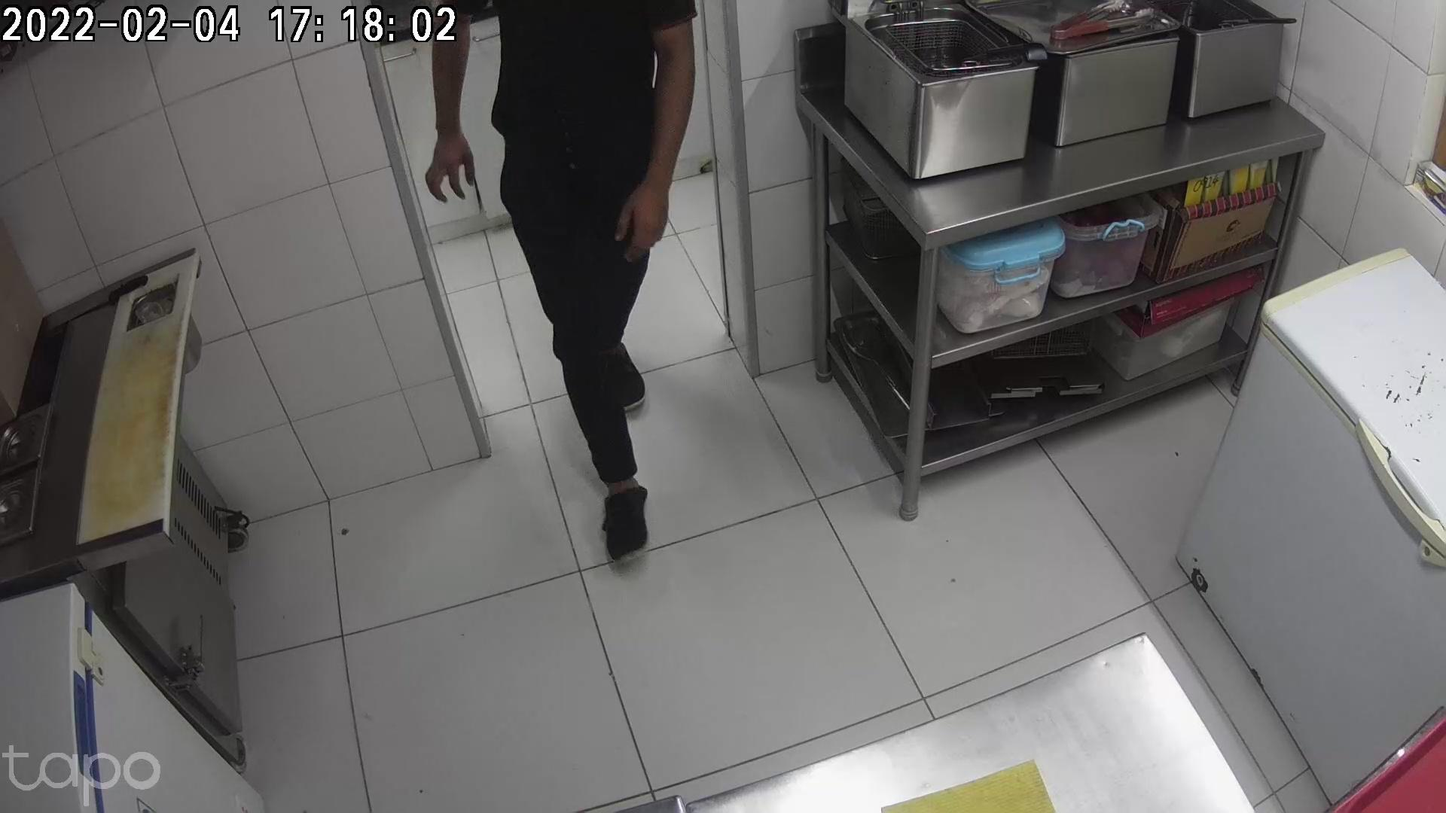no_gloves: (424, 101, 473, 206)
